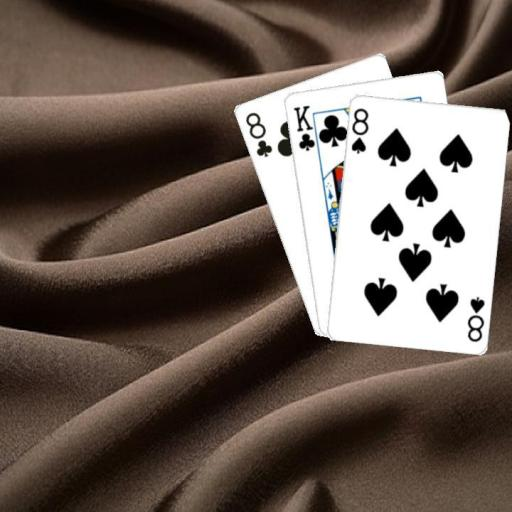8C: (242, 109, 274, 159)
8S: (348, 105, 370, 155), (464, 293, 486, 343)
KC: (290, 102, 322, 155)
